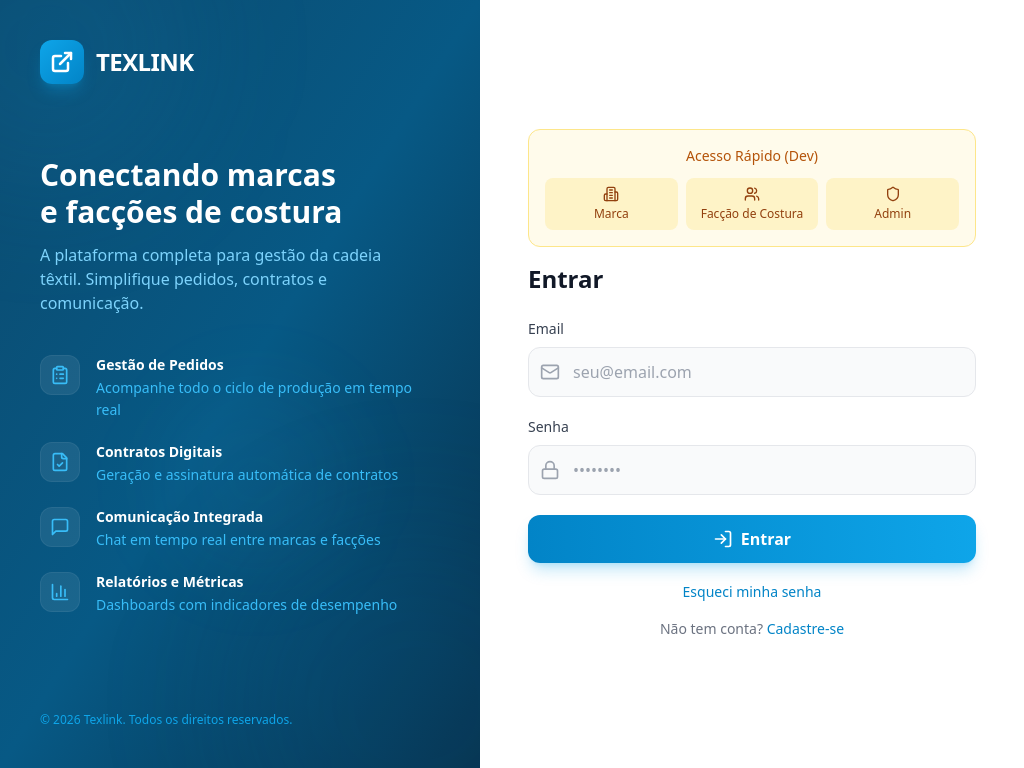
LoginPage › should display error message on login failure
Type "wrong@test.com" into the field with placeholder "seu@email.com" at (752, 372), box [528,347,976,397]
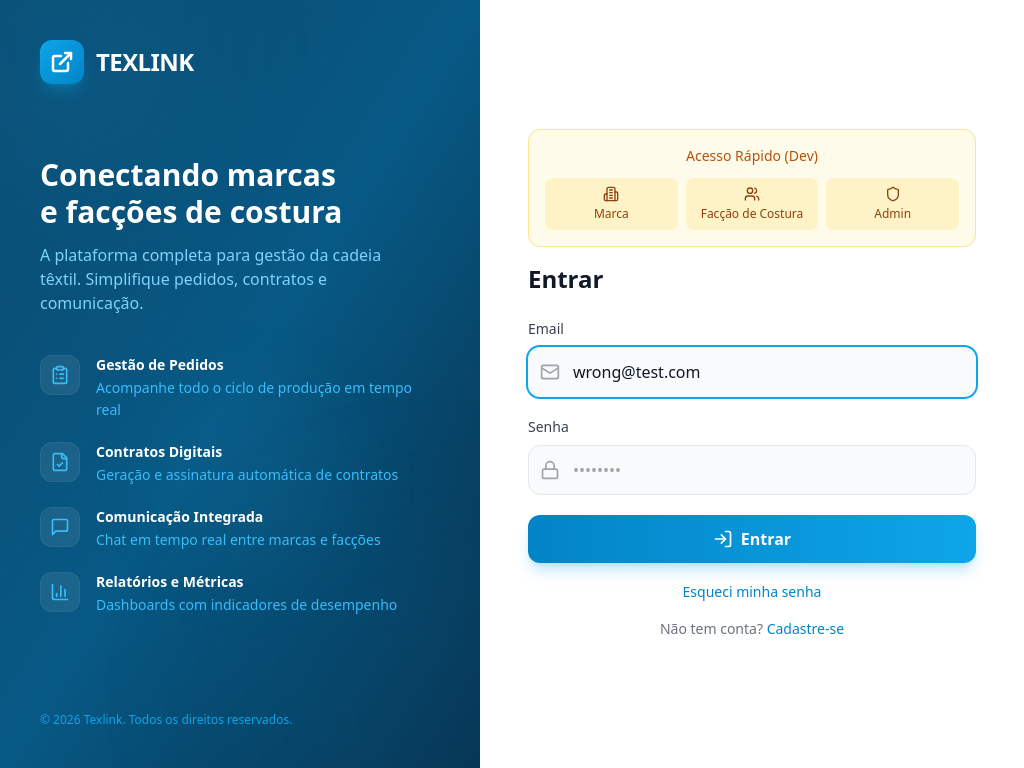
Type "wrongpass" into the password field with placeholder "••••••••" at (752, 470), box [528,445,976,495]
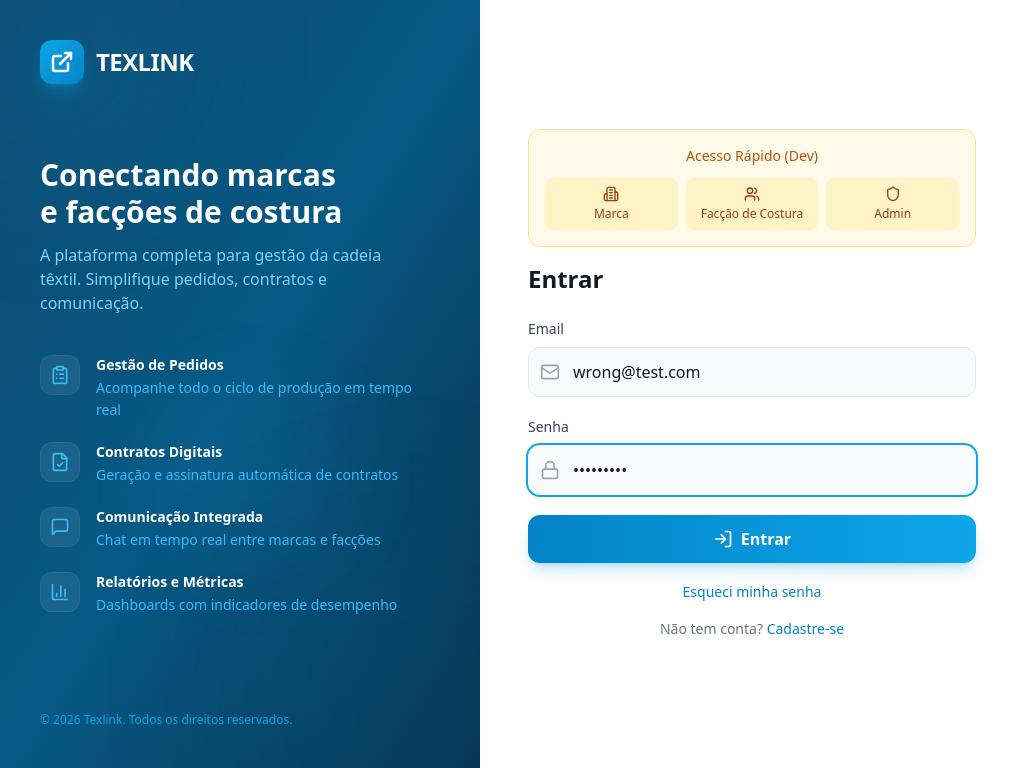
Click the button "Entrar" at (752, 539), box [528,515,976,563]
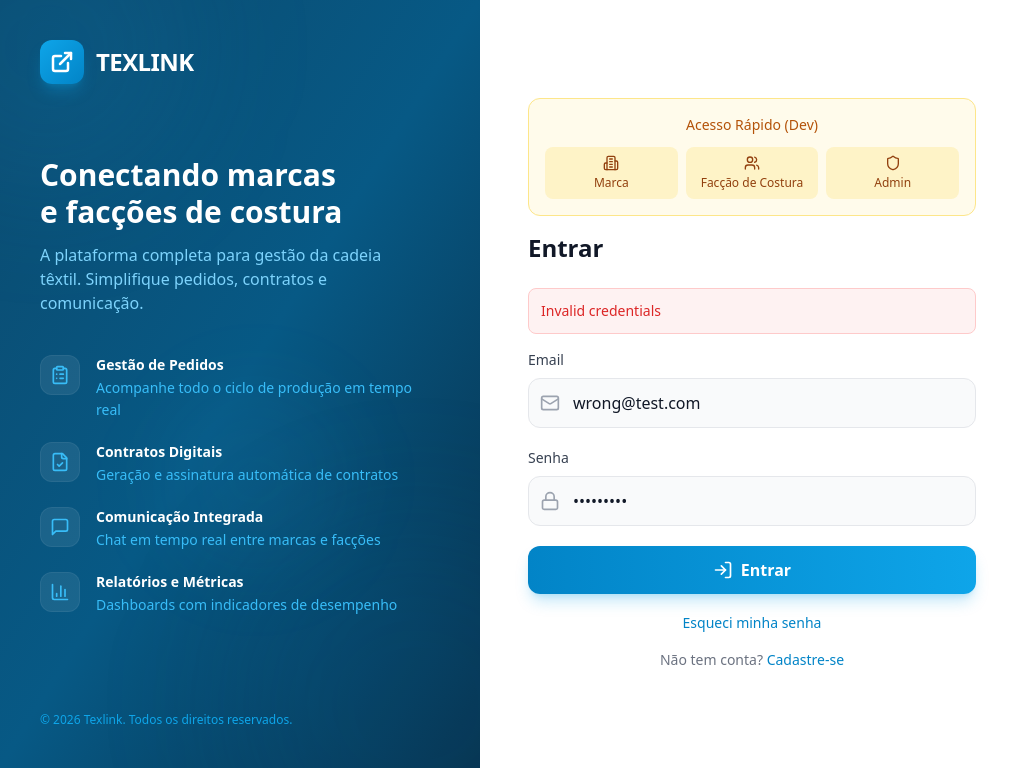
Check: the text "Invalid credentials" is shown, box [541,301,661,320]
